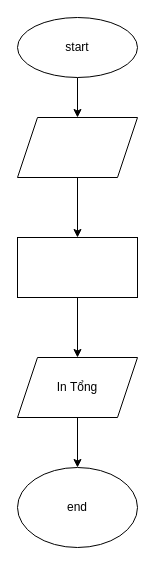
This 155x565 diagram has some shape labels left out. The centre of each missing label's shape, as x and y in pixels:
"a + b" goes at [77,267].
"nhập a và b" goes at [77,147].
